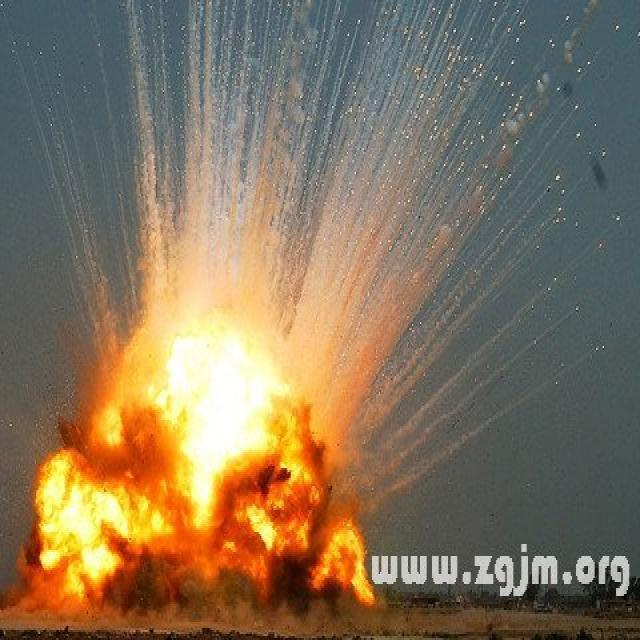fire: (21, 65, 380, 620)
